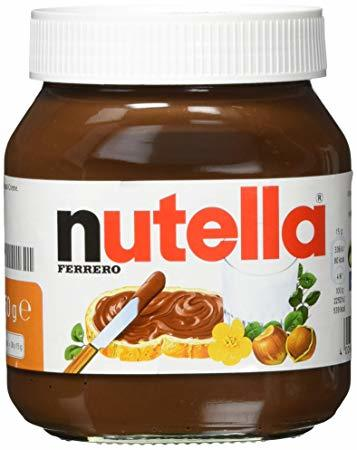nutella: (1, 3, 356, 444)
